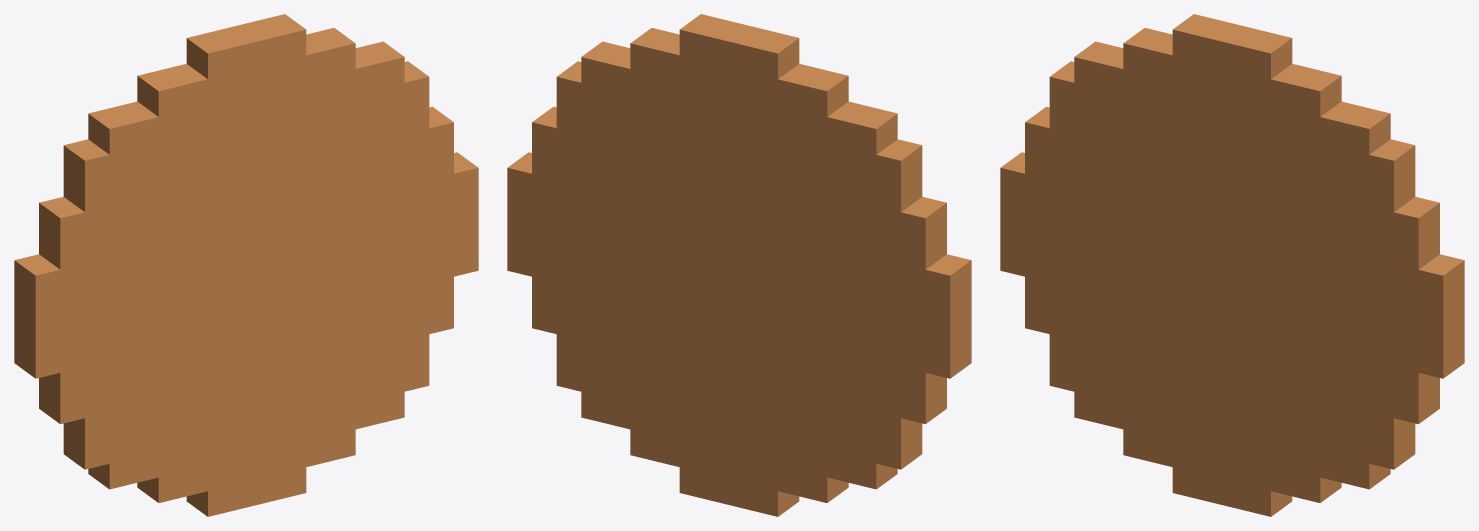
File: ilac_prop_alt.fbx
The picture shows the model from 3 angles, left to right: view 1: azimuth 30°, elevation 25°; view 2: azimuth 150°, elevation 25°; view 3: azimuth 330°, elevation 25°; orthographic projection.
Parts seen in each view (by area): view 1: generated; view 2: generated; view 3: generated.
Boxes of the visible parts, x1,y1,x2,y2 form: generated: (14, 14, 478, 516); generated: (507, 14, 971, 516); generated: (1000, 14, 1464, 516).
Bounding box in the file's own units: 180 × 180 × 15.
